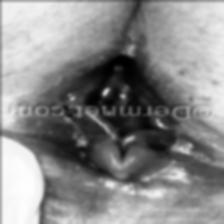Toxin: (39, 118, 224, 200), (46, 54, 200, 93)
